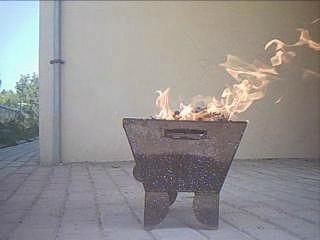fire: (237, 25, 312, 94), (144, 81, 246, 129)
